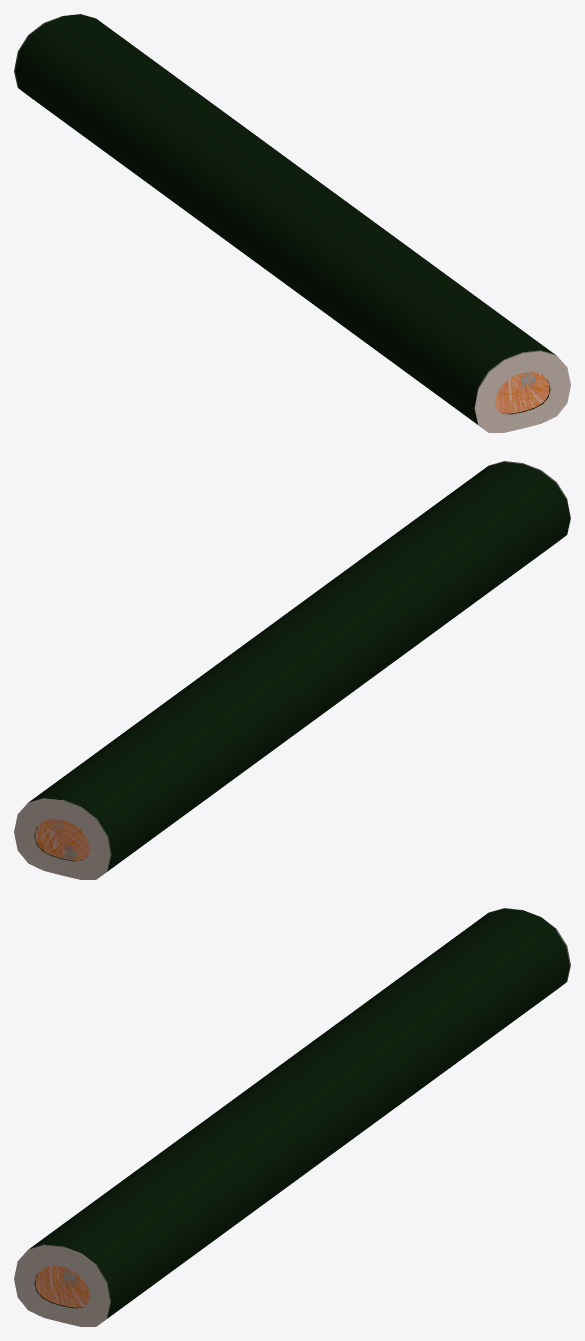
File: Hosomaki.fbx
The picture shows the model from 3 angles, top to bottom: view 1: azimuth 30°, elevation 25°; view 2: azimuth 150°, elevation 25°; view 3: azimuth 330°, elevation 25°; orthographic projection.
Visible parts, largest first — view 1: Cylinder.006, Cylinder.003, Cylinder.004, Cylinder.001; view 2: Cylinder.006, Cylinder.003, Cylinder.001, Cylinder.004; view 3: Cylinder.006, Cylinder.003, Cylinder.004, Cylinder.001.
Boxes of the visible parts, box(x1,y1,x2,y2) form: Cylinder.006: box(14, 14, 556, 427); Cylinder.003: box(474, 351, 570, 432); Cylinder.004: box(508, 371, 549, 412); Cylinder.001: box(495, 372, 531, 413); Cylinder.006: box(28, 461, 570, 874); Cylinder.003: box(14, 798, 110, 879); Cylinder.001: box(49, 820, 89, 860); Cylinder.004: box(35, 818, 63, 858); Cylinder.006: box(28, 908, 570, 1321); Cylinder.003: box(14, 1245, 110, 1326); Cylinder.004: box(49, 1267, 89, 1307); Cylinder.001: box(35, 1265, 72, 1304).
Bounding box in the file's own units: 8.69 × 6.5 × 72.07.
